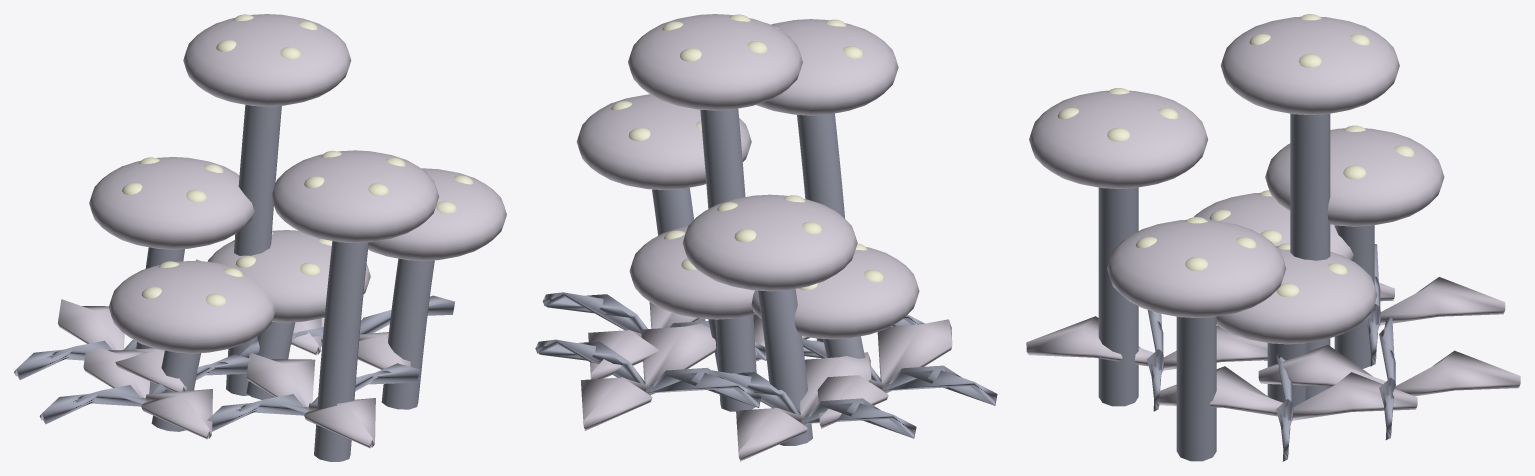
The model's file is bio_spore_fungus_05_near.glb.
The picture shows the model from 3 angles, left to right: view 1: azimuth 30°, elevation 25°; view 2: azimuth 150°, elevation 25°; view 3: azimuth 270°, elevation 25°; orthographic projection. The views are drawn at different scales.
Visible parts, largest first — view 1: Thick umbrella cap.002, Thick umbrella cap.003, Thick umbrella cap.004, Thick umbrella cap.001, Curved stipe.002, Thick umbrella cap.005, Thick umbrella cap, Curved stipe.003, Low buttress leaf.009, Curved stipe.005, Low buttress leaf.017, Low buttress leaf.005 (+14 smaller); view 2: Thick umbrella cap.003, Thick umbrella cap.001, Thick umbrella cap.005, Thick umbrella cap.002, Thick umbrella cap.004, Curved stipe.003, Thick umbrella cap, Low buttress leaf.013, Low buttress leaf.017, Low buttress leaf.005, Curved stipe.001, Low buttress leaf.012 (+9 smaller); view 3: Thick umbrella cap.003, Thick umbrella cap.002, Thick umbrella cap.005, Thick umbrella cap.001, Thick umbrella cap, Curved stipe.002, Curved stipe.003, Low buttress leaf.013, Curved stipe.005, Low buttress leaf.001, Low buttress leaf.009, Low buttress leaf.005 (+12 smaller).
Boxes of the visible parts, <box> form: Thick umbrella cap.002: <box>271,150,439,242</box>; Thick umbrella cap.003: <box>183,14,351,106</box>; Thick umbrella cap.004: <box>108,261,275,353</box>; Thick umbrella cap.001: <box>89,157,254,249</box>; Curved stipe.002: <box>314,241,368,461</box>; Thick umbrella cap.005: <box>368,168,506,260</box>; Thick umbrella cap: <box>208,230,370,322</box>; Curved stipe.003: <box>226,104,281,395</box>; Low buttress leaf.009: <box>246,353,375,448</box>; Curved stipe.005: <box>381,258,434,409</box>; Low buttress leaf.017: <box>83,343,212,439</box>; Low buttress leaf.005: <box>58,299,186,391</box>; Thick umbrella cap.003: <box>628,14,802,110</box>; Thick umbrella cap.001: <box>682,194,857,291</box>; Thick umbrella cap.005: <box>576,94,751,190</box>; Thick umbrella cap.002: <box>756,19,898,115</box>; Thick umbrella cap.004: <box>751,247,919,339</box>; Curved stipe.003: <box>700,108,756,411</box>; Thick umbrella cap: <box>629,226,755,319</box>; Low buttress leaf.013: <box>581,323,716,430</box>; Low buttress leaf.017: <box>817,319,952,428</box>; Low buttress leaf.005: <box>736,352,871,461</box>; Curved stipe.001: <box>757,289,812,445</box>; Low buttress leaf.012: <box>535,339,761,407</box>; Thick umbrella cap.003: <box>1220,16,1399,115</box>; Thick umbrella cap.002: <box>1029,90,1208,188</box>; Thick umbrella cap.005: <box>1107,219,1286,317</box>; Thick umbrella cap.001: <box>1265,128,1444,226</box>; Thick umbrella cap: <box>1216,246,1377,344</box>; Curved stipe.002: <box>1098,187,1138,406</box>; Curved stipe.003: <box>1290,113,1330,400</box>; Low buttress leaf.013: <box>1258,345,1520,396</box>; Curved stipe.005: <box>1176,316,1216,461</box>; Low buttress leaf.001: <box>1159,366,1417,421</box>; Low buttress leaf.009: <box>1026,316,1267,371</box>; Low buttress leaf.005: <box>1379,277,1505,326</box>.
Bounding box in the file's own units: 2.22 × 1.78 × 2.09.
